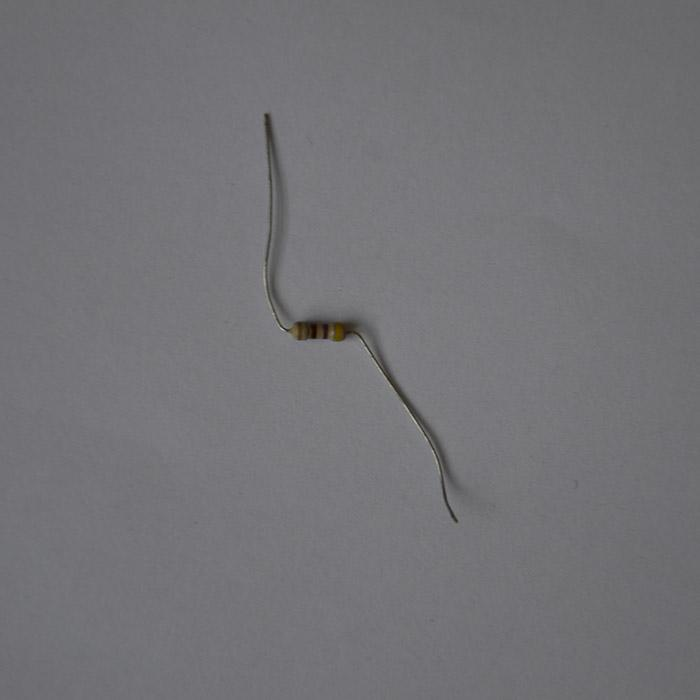resistor: (288, 320, 347, 341)
